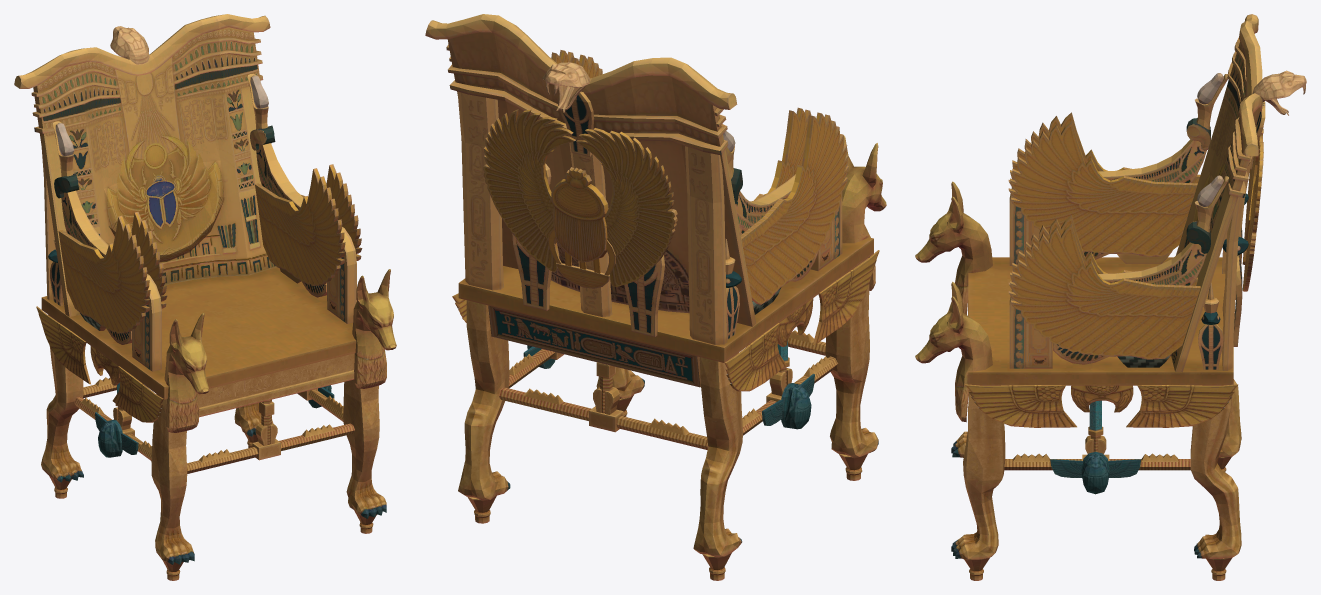
The model's file is pharaohs_chair.glb.
The picture shows the model from 3 angles, left to right: view 1: azimuth 30°, elevation 25°; view 2: azimuth 150°, elevation 25°; view 3: azimuth 270°, elevation 25°; orthographic projection. The views are drawn at different scales.
Parts seen in each view (by area): view 1: Object_4; view 2: Object_4; view 3: Object_4.
Part boxes in pixels (x1=…): Object_4: x1=14, y1=14, x2=396, y2=580; Object_4: x1=425, y1=14, x2=886, y2=580; Object_4: x1=915, y1=14, x2=1306, y2=580.
Bounding box in the file's own units: 0.7788 × 1.28 × 0.9768.
1 material, 1 textured.
